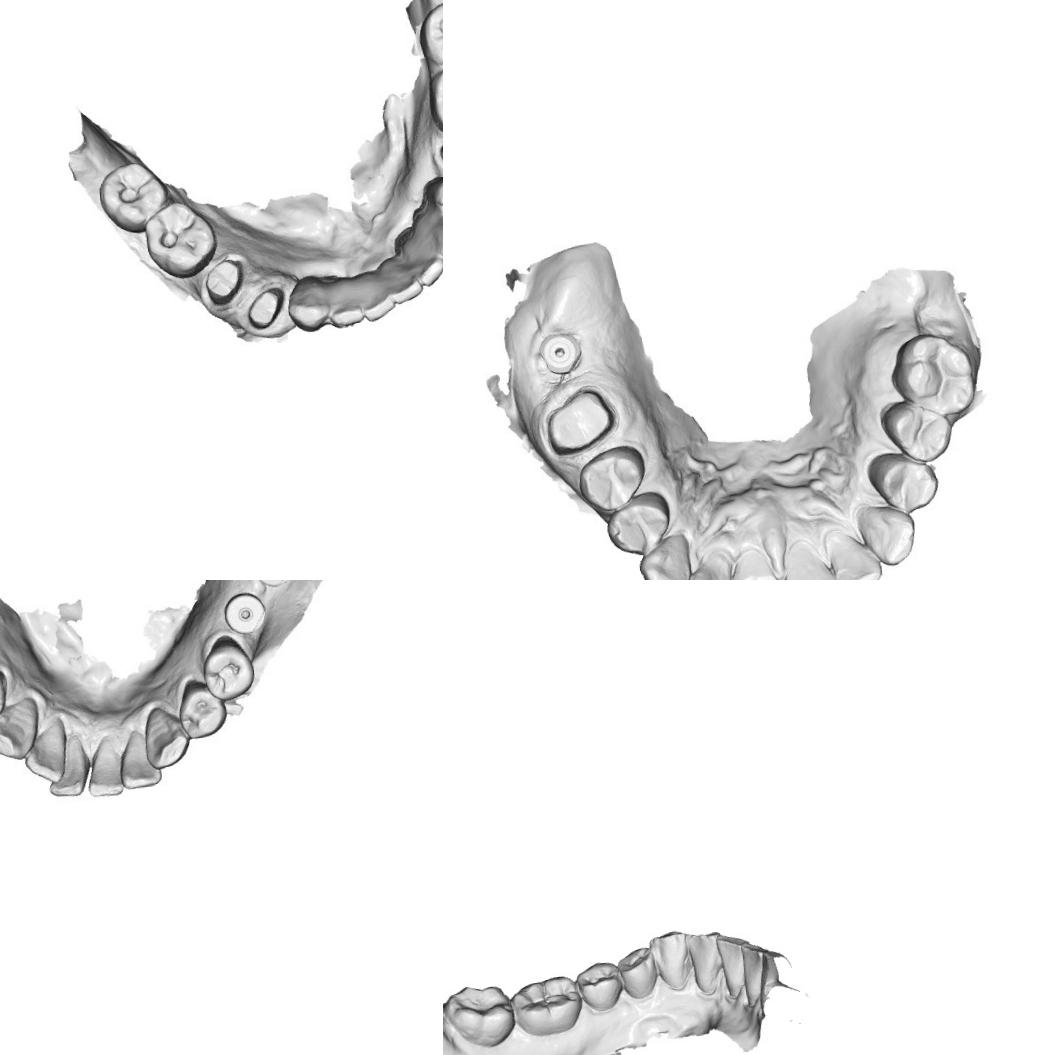canine: (858, 504, 920, 570), (645, 927, 696, 993), (280, 272, 334, 334), (143, 706, 192, 767), (0, 699, 37, 761), (638, 538, 692, 580)
crown: (540, 382, 618, 454), (199, 254, 247, 306), (240, 284, 286, 330)
implant: (529, 328, 580, 376), (226, 590, 268, 634)
incisor: (682, 928, 726, 997), (827, 526, 881, 580), (714, 931, 754, 1001), (116, 735, 162, 795), (23, 720, 68, 780), (45, 738, 88, 800), (84, 735, 126, 798), (737, 938, 772, 1008), (380, 255, 426, 307), (356, 272, 399, 325), (785, 540, 841, 580), (680, 547, 742, 580), (324, 280, 366, 327), (729, 549, 789, 580), (407, 248, 443, 289), (422, 209, 443, 261)
molar: (884, 330, 978, 422), (141, 197, 221, 280), (95, 157, 170, 237), (443, 979, 517, 1051), (507, 971, 585, 1039), (416, 0, 443, 71), (425, 62, 443, 139)
premolar: (569, 444, 647, 518), (876, 396, 956, 468), (602, 489, 672, 560), (870, 449, 938, 518), (200, 636, 254, 700), (178, 679, 230, 742), (574, 958, 626, 1014), (615, 945, 658, 1000), (423, 171, 443, 229), (0, 671, 11, 727)
